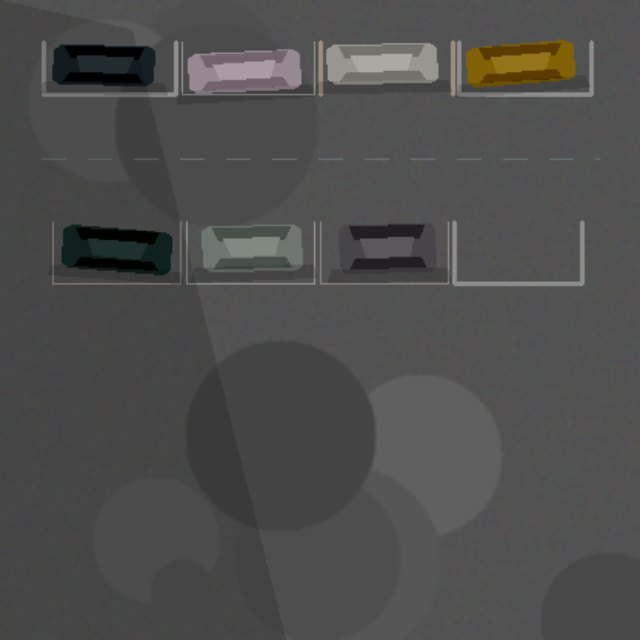space-empty: (454, 222, 582, 283)
space-occupied: (52, 222, 180, 283), (186, 222, 314, 283), (320, 222, 448, 283), (458, 42, 591, 94), (43, 42, 175, 94), (182, 42, 314, 94), (320, 42, 452, 94)
